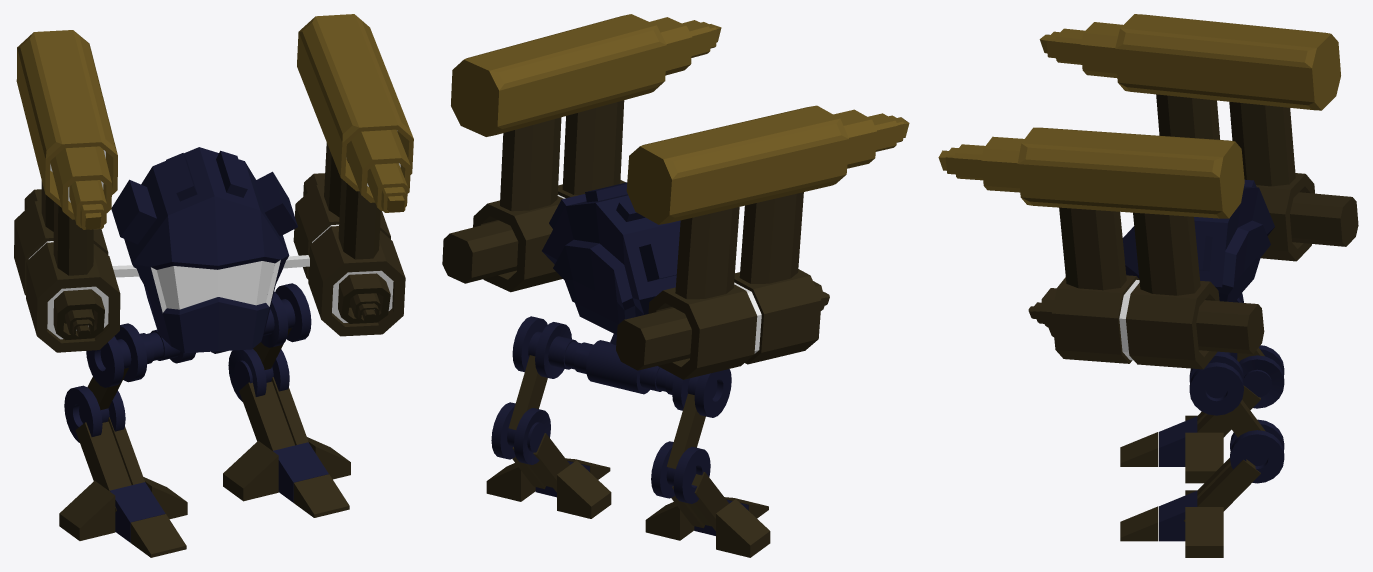
The model's file is mech.fbx.
3 renders of one model, left to right at view 1: azimuth 30°, elevation 25°; view 2: azimuth 150°, elevation 25°; view 3: azimuth 270°, elevation 25°, orthographic. The views are drawn at different scales.
Parts seen in each view (by area): view 1: Cube.008, Cube, Cube.006, Cube.005, Cube.002, Cylinder, Cylinder.001, Cube.003, Cube.004, Cube.001, Cube.007; view 2: Cube.006, Cube.008, Cube, Cylinder, Cube.005, Cylinder.001, Cube.002, Cube.001, Cube.004; view 3: Cube.008, Cube.006, Cube, Cylinder.001, Cube.005, Cylinder, Cube.002, Cube.003, Cube.004, Cube.001.
Boxes of the visible parts, <box> form: Cube.008: <box>16,14,413,229</box>; Cube: <box>111,147,297,353</box>; Cube.006: <box>14,143,405,352</box>; Cube.005: <box>59,437,350,540</box>; Cube.002: <box>75,377,308,511</box>; Cylinder: <box>86,283,311,387</box>; Cylinder.001: <box>64,349,289,442</box>; Cube.003: <box>110,442,328,542</box>; Cube.004: <box>130,474,349,557</box>; Cube.001: <box>87,328,291,410</box>; Cube.007: <box>112,255,309,277</box>; Cube.006: <box>442,100,829,379</box>; Cube.008: <box>451,14,909,224</box>; Cube: <box>542,182,680,345</box>; Cylinder: <box>512,316,731,417</box>; Cube.005: <box>486,460,770,557</box>; Cylinder.001: <box>491,402,710,503</box>; Cube.002: <box>512,433,728,530</box>; Cube.001: <box>508,355,705,468</box>; Cube.004: <box>565,458,768,518</box>; Cube.008: <box>938,14,1340,218</box>; Cube.006: <box>1028,94,1358,369</box>; Cube: <box>1122,179,1274,302</box>; Cylinder.001: <box>1230,345,1284,483</box>; Cube.005: <box>1185,415,1223,557</box>; Cylinder: <box>1189,293,1243,415</box>; Cube.002: <box>1184,385,1260,521</box>; Cube.003: <box>1159,416,1197,541</box>; Cube.004: <box>1120,432,1158,541</box>; Cube.001: <box>1221,347,1265,437</box>.
Size of what is drawn, in the model's own units: 696 by 784 by 718.
